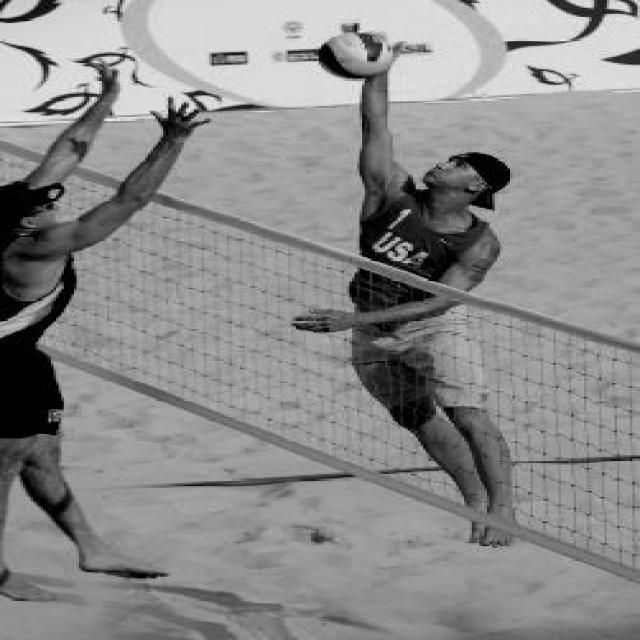volleyball: (318, 31, 392, 80)
